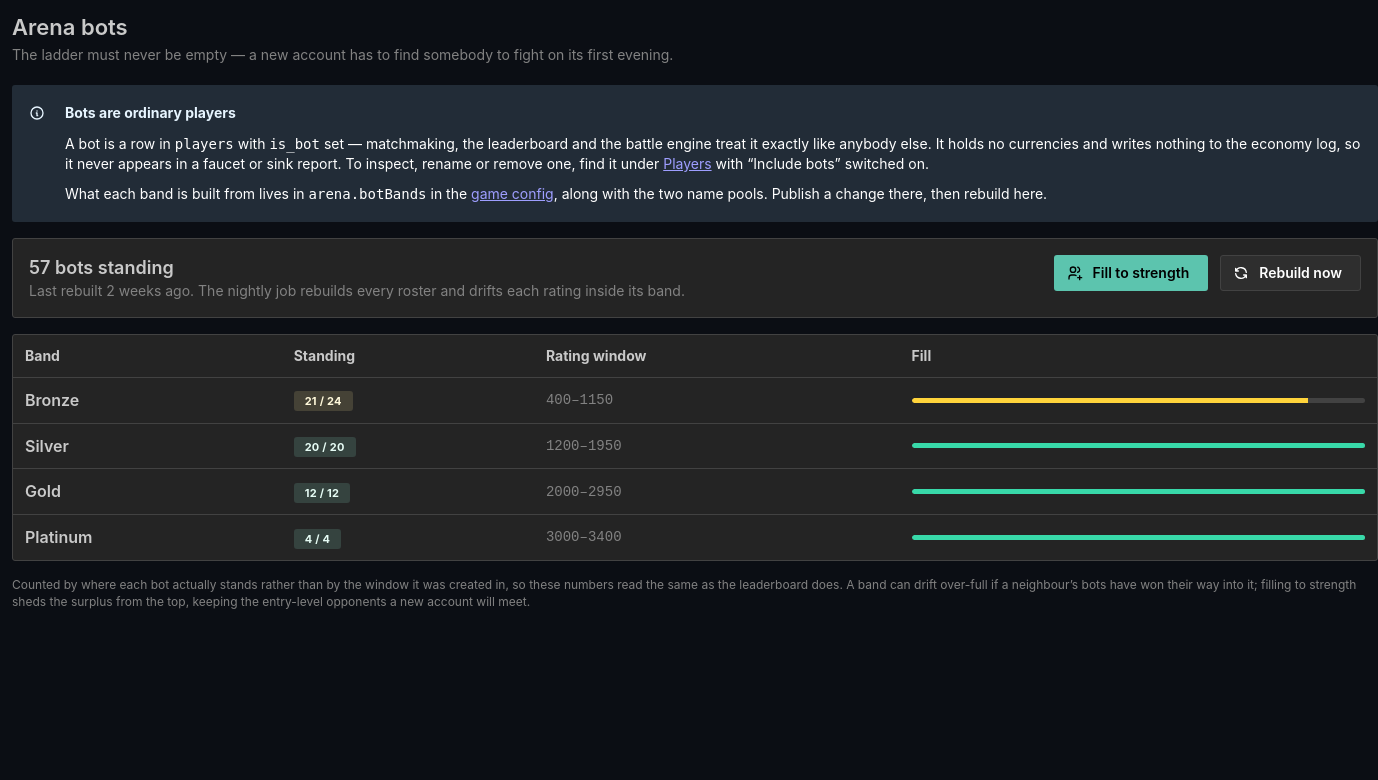
the bot ladder page › surfaces a failed run rather than swallowing it
Click the button "Fill to strength". click: [1131, 273]
box: [1054,255,1208,291]
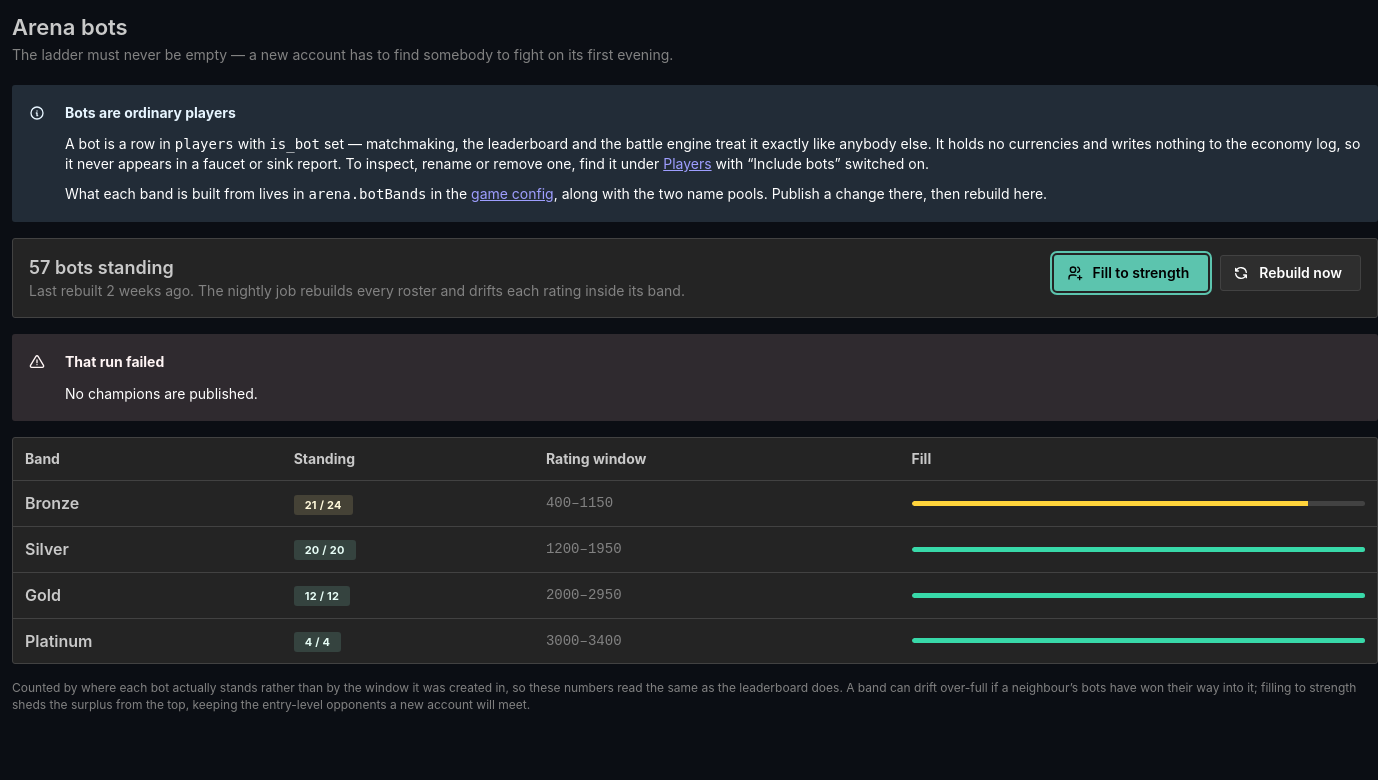
Result: the text "No champions are published." is shown at [65,385,258,402]
